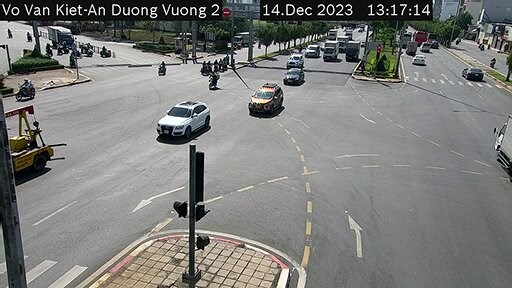car: (153, 99, 215, 139), (250, 82, 283, 115), (287, 52, 303, 70), (459, 70, 485, 81), (283, 68, 301, 83), (304, 39, 318, 57), (414, 54, 427, 65)
motorbike: (17, 76, 36, 100), (201, 75, 221, 90), (161, 62, 168, 74)
truck: (496, 112, 512, 180), (46, 27, 75, 48), (346, 40, 362, 65), (321, 45, 340, 62), (327, 27, 339, 43), (345, 28, 354, 39)
